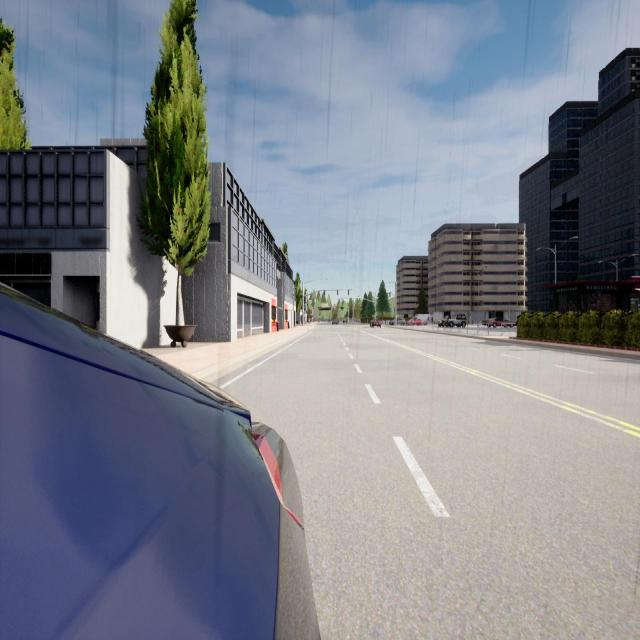Vehicle: (0, 283, 322, 640), (482, 317, 516, 328), (448, 314, 467, 328), (412, 314, 431, 325), (389, 318, 406, 326), (438, 316, 450, 327), (408, 318, 422, 326), (370, 318, 381, 328), (332, 319, 338, 325), (343, 319, 347, 324)
traffic_light: (348, 289, 349, 295), (324, 290, 325, 295), (337, 290, 338, 295), (394, 307, 395, 311), (359, 298, 360, 302), (375, 310, 376, 313), (390, 292, 390, 297), (342, 298, 342, 301), (350, 298, 350, 301)
